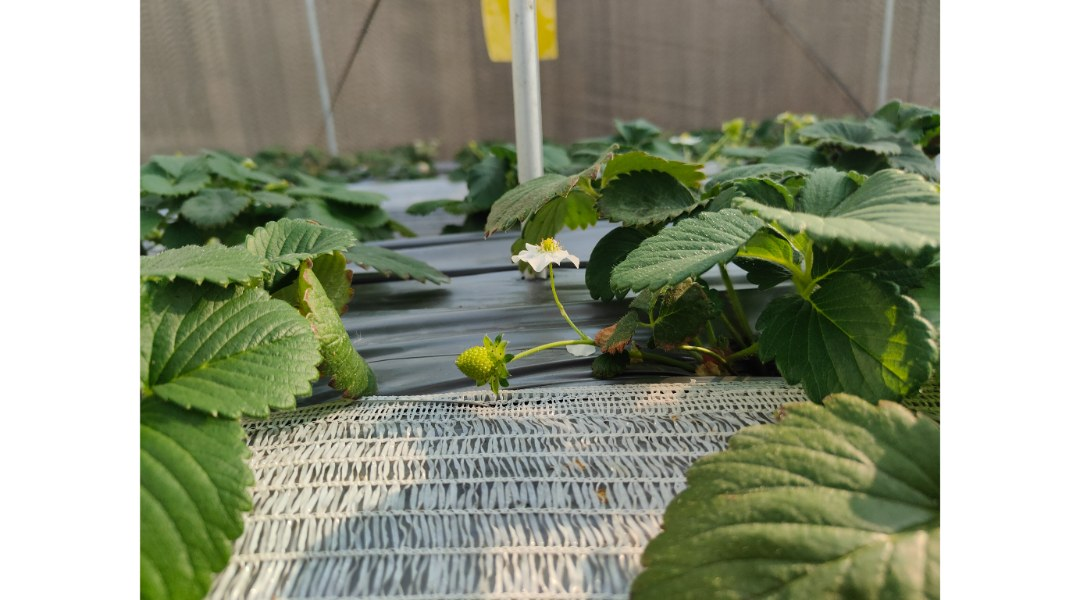berry: (446, 328, 514, 395)
flower: (499, 228, 596, 274)
strain: (540, 266, 582, 337), (499, 341, 580, 374)
